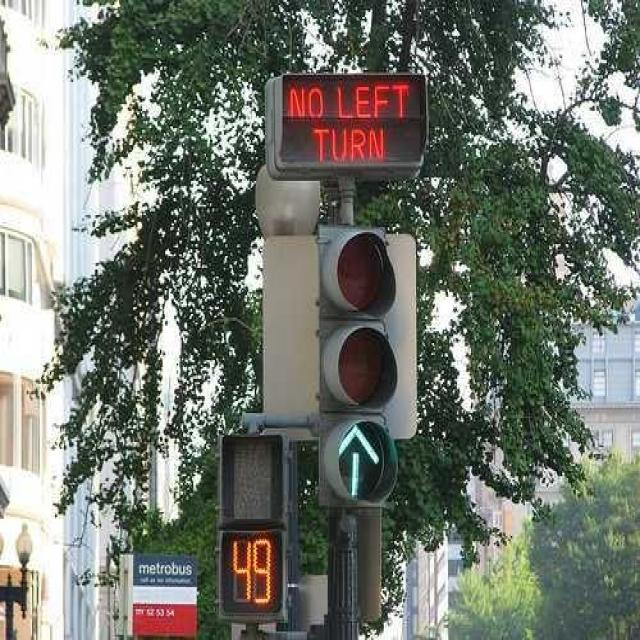Traffic Light -Green-: (311, 220, 411, 520)
